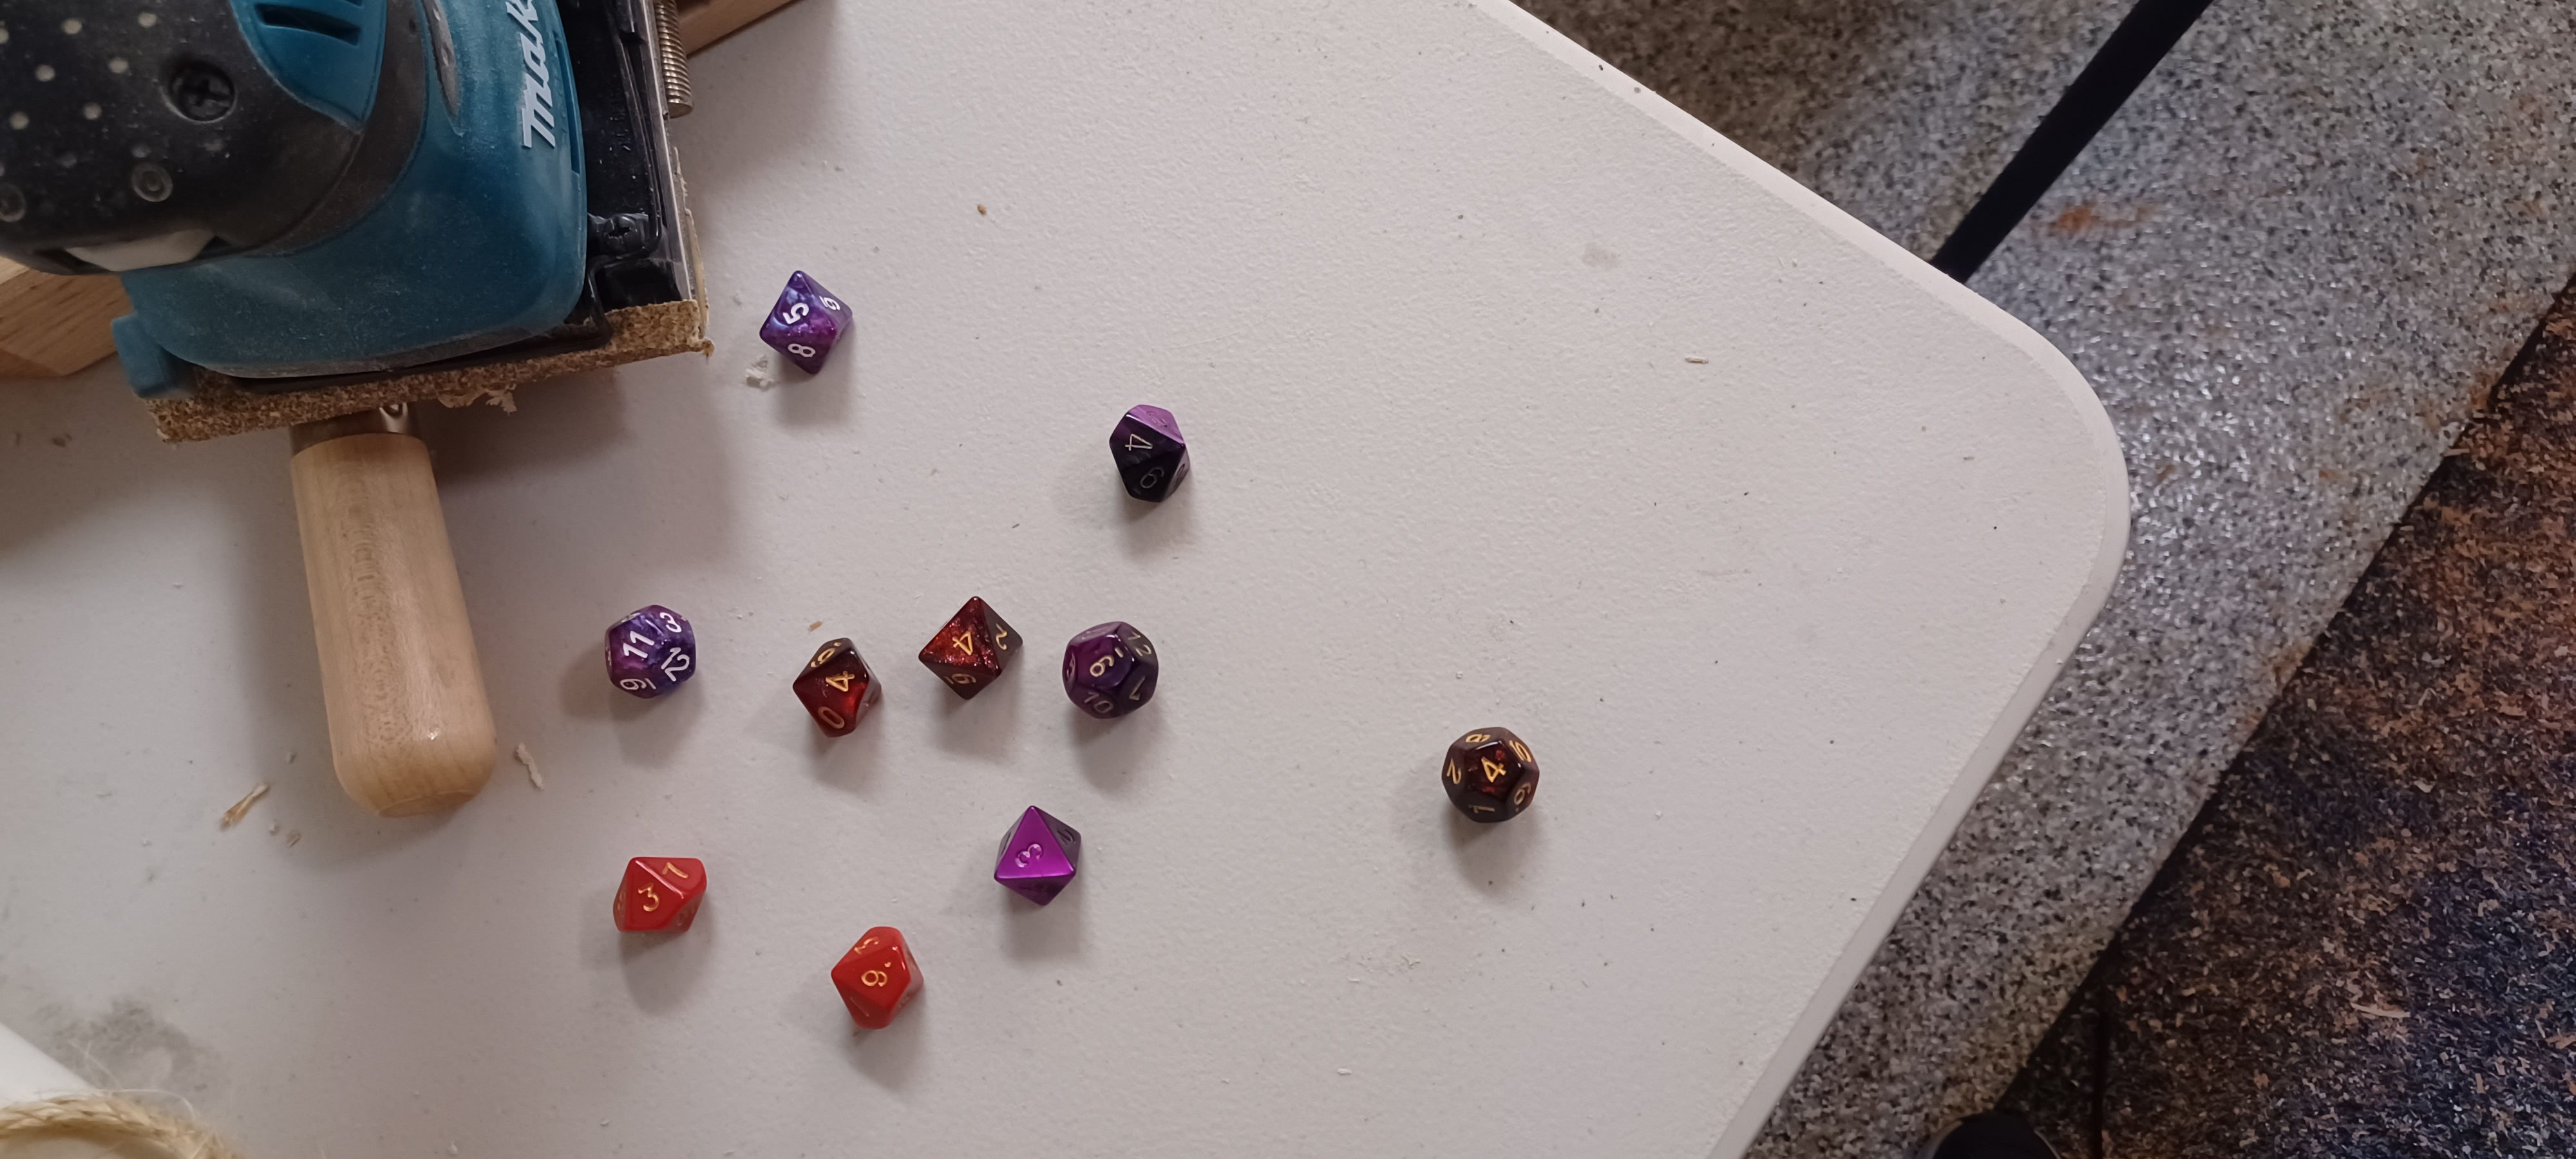eleven: (577, 581, 720, 717)
five: (736, 245, 876, 387)
four: (1071, 383, 1230, 535), (1418, 706, 1574, 837), (769, 611, 897, 744), (904, 583, 1032, 698)
nine: (805, 901, 953, 1067), (1045, 601, 1188, 735)
three: (573, 818, 744, 962), (956, 778, 1119, 923)
